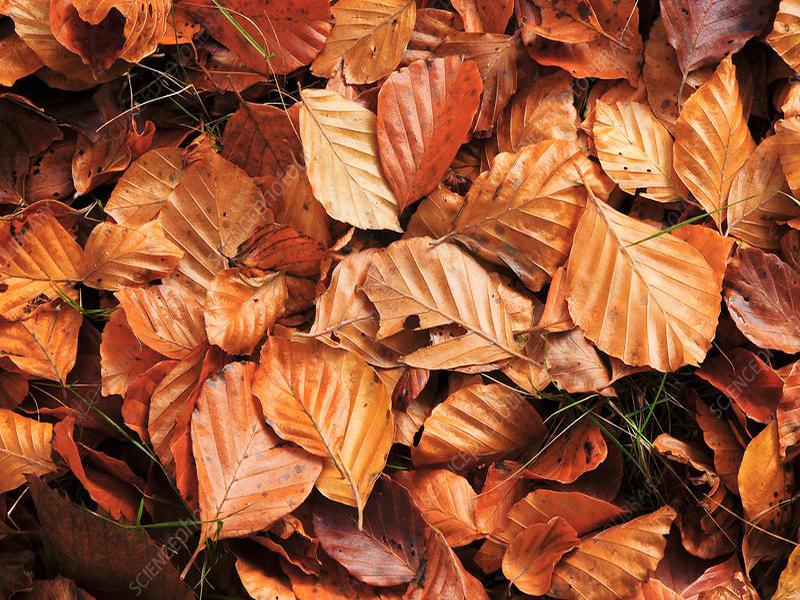leaf: (551, 158, 724, 374), (425, 138, 621, 294), (353, 232, 559, 374), (283, 75, 410, 240), (371, 50, 489, 217), (245, 327, 360, 483), (663, 50, 758, 231), (581, 90, 713, 215), (404, 379, 560, 471), (67, 210, 189, 294), (200, 258, 297, 359), (106, 274, 212, 365), (717, 245, 800, 360), (500, 408, 613, 489), (66, 82, 138, 206), (487, 67, 584, 156), (490, 512, 585, 596)
